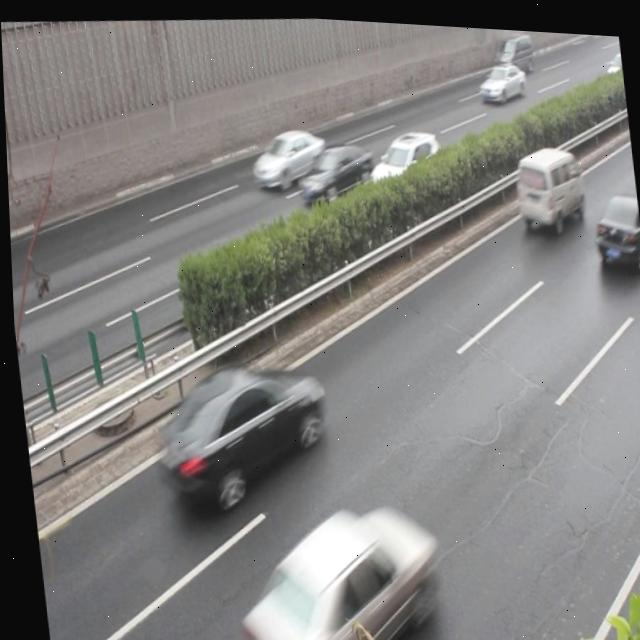car: (235, 491, 435, 640), (148, 357, 324, 506), (362, 122, 447, 195), (291, 135, 374, 204), (246, 123, 326, 188), (588, 181, 640, 266), (475, 54, 525, 99)
truck: (508, 135, 583, 227)
